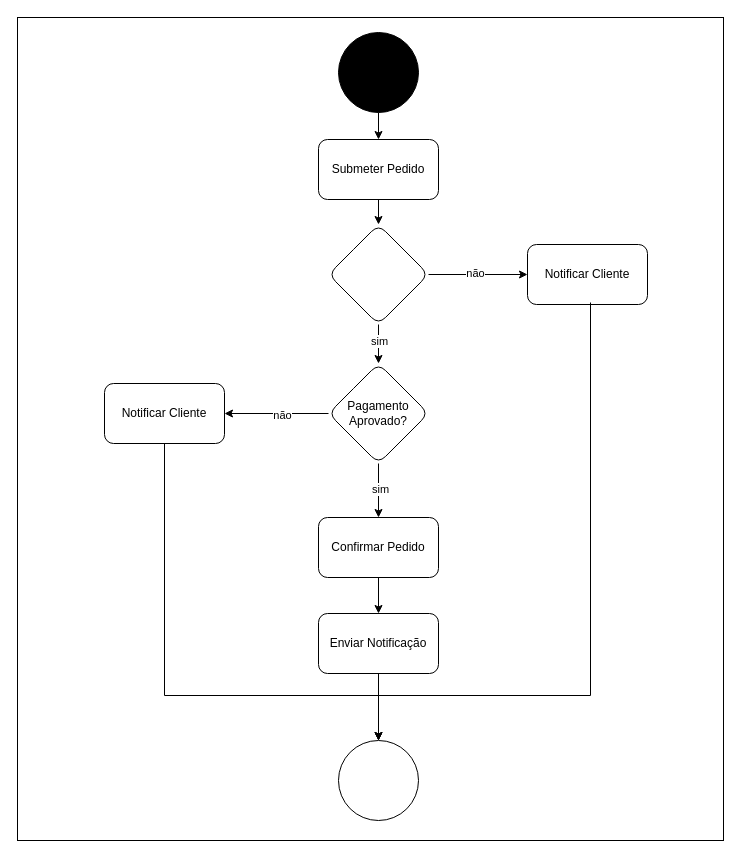
The diagram is 741 pixels wide and 858 high, and some of its shapes have lost their labels. The shapes that lost their labels are listed below. From the top down, each one's centre as x and y in pixels, then its label:
At (378,72): "Inicio".
At (378,274): "Itens em Estoque?".
At (378,780): "Fim".
